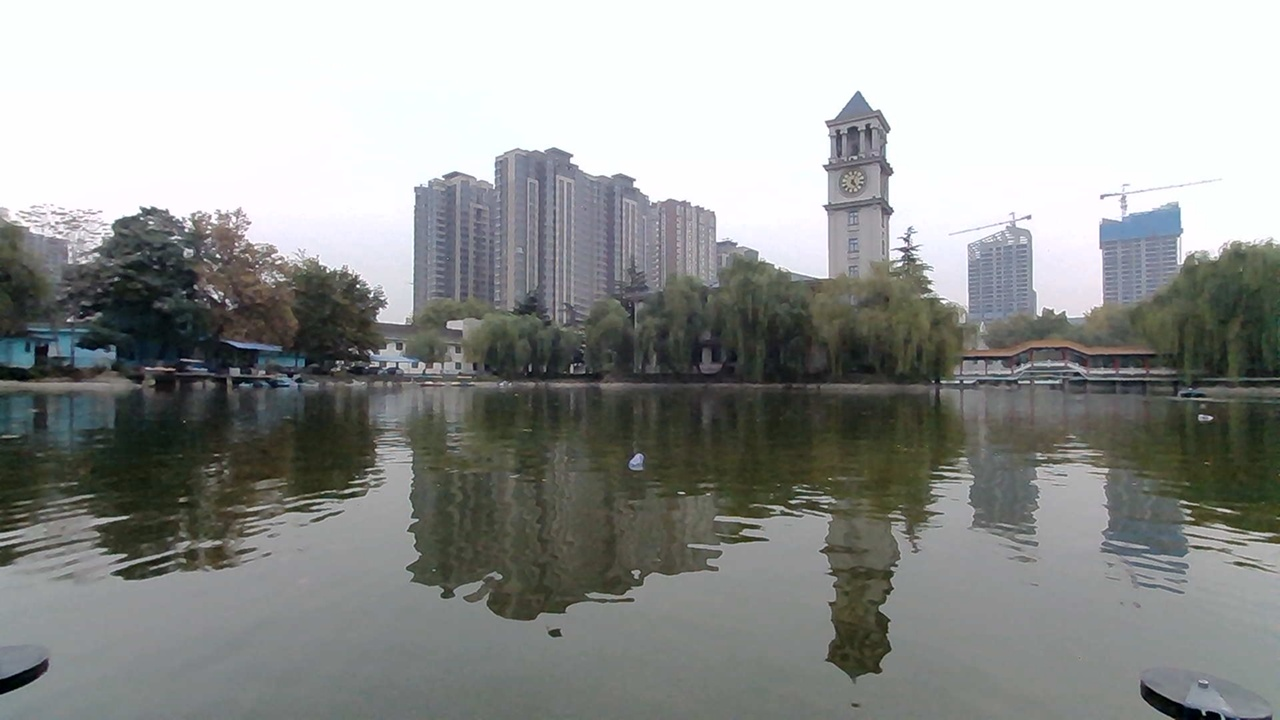bottle: (614, 445, 663, 477), (1193, 402, 1232, 432)
